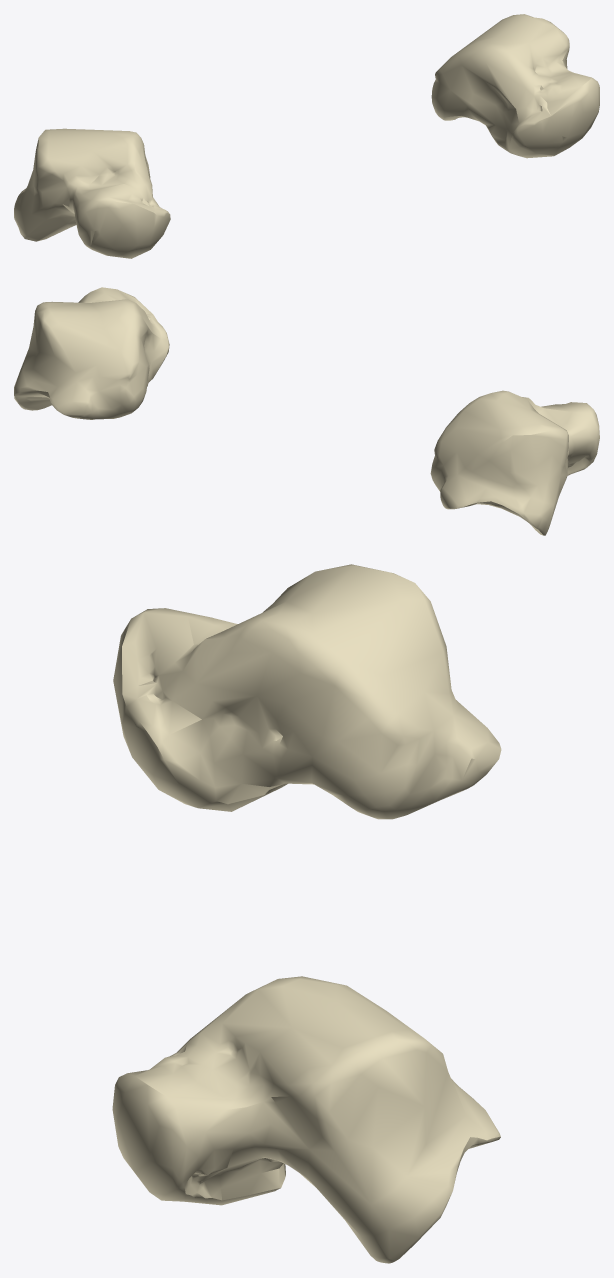
Rendered from talus.glb.
3 renders of one model, top to bottom at view 1: azimuth 30°, elevation 25°; view 2: azimuth 150°, elevation 25°; view 3: azimuth 270°, elevation 25°, orthographic. The views are drawn at different scales.
Visible parts, largest first — view 1: Talus; view 2: Talus; view 3: Talus.
Boxes of the visible parts, box(x1,y1,x2,y2) form: Talus: box(14, 14, 599, 258); Talus: box(14, 287, 599, 535); Talus: box(112, 564, 501, 1263).
Bounding box in the file's own units: 0.1803 × 0.0344 × 0.0569.
